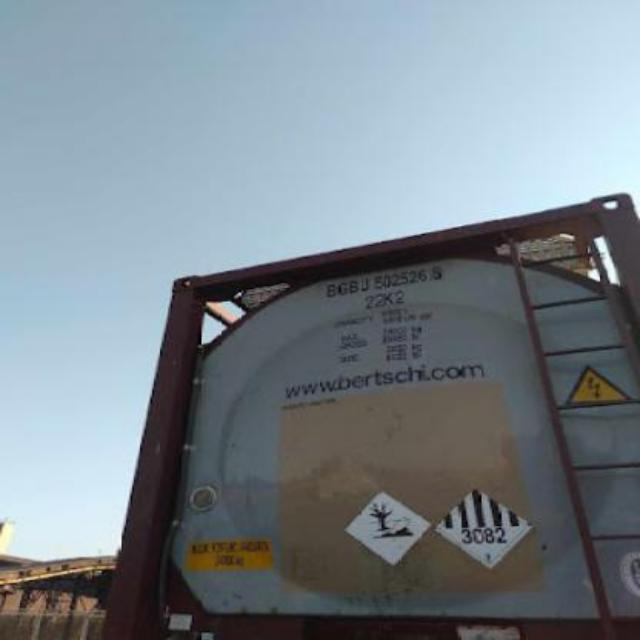0: (382, 271, 390, 289)
2: (390, 269, 400, 289), (408, 269, 418, 287)
5: (372, 268, 382, 294), (400, 262, 408, 290)
6: (418, 262, 428, 290)
8: (430, 263, 440, 281)
B: (324, 276, 336, 300), (348, 278, 358, 298)
G: (336, 274, 348, 300)
U: (356, 275, 369, 293)
